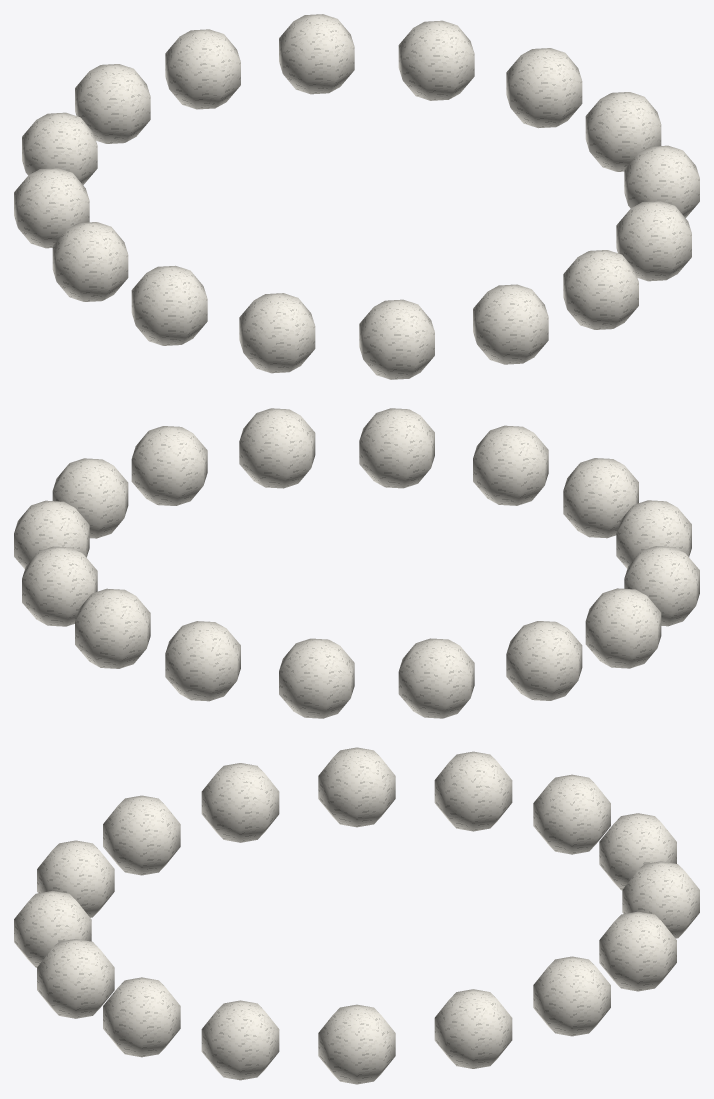
File: collar_de_perlas.glb
The picture shows the model from 3 angles, top to bottom: view 1: azimuth 30°, elevation 25°; view 2: azimuth 150°, elevation 25°; view 3: azimuth 270°, elevation 25°; orthographic projection.
Visible parts, largest first — view 1: _MeshInstance3D_212, _MeshInstance3D_220, _MeshInstance3D_218, _MeshInstance3D_211, _MeshInstance3D_219, _MeshInstance3D_207, _MeshInstance3D_213, _MeshInstance3D_221, _MeshInstance3D_206, _MeshInstance3D_214, _MeshInstance3D_208, _MeshInstance3D_215 (+4 smaller); view 2: _MeshInstance3D_218, _MeshInstance3D_208, _MeshInstance3D_216, _MeshInstance3D_209, _MeshInstance3D_217, _MeshInstance3D_207, _MeshInstance3D_213, _MeshInstance3D_215, _MeshInstance3D_206, _MeshInstance3D_214, _MeshInstance3D_212, _MeshInstance3D_221 (+4 smaller); view 3: _MeshInstance3D_209, _MeshInstance3D_217, _MeshInstance3D_211, _MeshInstance3D_219, _MeshInstance3D_207, _MeshInstance3D_208, _MeshInstance3D_216, _MeshInstance3D_212, _MeshInstance3D_220, _MeshInstance3D_210, _MeshInstance3D_213, _MeshInstance3D_218 (+4 smaller).
Boxes of the visible parts, left/top/right/bottom form: _MeshInstance3D_212: left=398, top=20, right=474, bottom=100; _MeshInstance3D_220: left=239, top=293, right=315, bottom=373; _MeshInstance3D_218: left=52, top=222, right=128, bottom=301; _MeshInstance3D_211: left=506, top=48, right=582, bottom=128; _MeshInstance3D_219: left=131, top=265, right=207, bottom=345; _MeshInstance3D_207: left=563, top=250, right=638, bottom=329; _MeshInstance3D_213: left=279, top=14, right=354, bottom=94; _MeshInstance3D_221: left=359, top=299, right=434, bottom=379; _MeshInstance3D_206: left=473, top=284, right=548, bottom=364; _MeshInstance3D_214: left=165, top=29, right=240, bottom=109; _MeshInstance3D_208: left=616, top=201, right=691, bottom=281; _MeshInstance3D_215: left=75, top=64, right=150, bottom=143; _MeshInstance3D_218: left=585, top=588, right=661, bottom=668; _MeshInstance3D_208: left=239, top=408, right=315, bottom=488; _MeshInstance3D_216: left=398, top=638, right=474, bottom=718; _MeshInstance3D_209: left=131, top=426, right=207, bottom=505; _MeshInstance3D_217: left=506, top=621, right=582, bottom=700; _MeshInstance3D_207: left=359, top=408, right=434, bottom=488; _MeshInstance3D_213: left=75, top=588, right=150, bottom=668; _MeshInstance3D_215: left=279, top=638, right=354, bottom=718; _MeshInstance3D_206: left=473, top=425, right=548, bottom=505; _MeshInstance3D_214: left=165, top=621, right=240, bottom=701; _MeshInstance3D_212: left=22, top=546, right=97, bottom=626; _MeshInstance3D_221: left=563, top=458, right=638, bottom=538; _MeshInstance3D_209: left=201, top=1000, right=279, bottom=1080; _MeshInstance3D_217: left=434, top=751, right=512, bottom=831; _MeshInstance3D_211: left=434, top=989, right=512, bottom=1068; _MeshInstance3D_219: left=201, top=763, right=279, bottom=842; _MeshInstance3D_207: left=37, top=939, right=114, bottom=1018; _MeshInstance3D_208: left=103, top=977, right=180, bottom=1057; _MeshInstance3D_216: left=533, top=774, right=610, bottom=854; _MeshInstance3D_212: left=533, top=956, right=610, bottom=1036; _MeshInstance3D_220: left=103, top=795, right=180, bottom=875; _MeshInstance3D_210: left=318, top=1004, right=395, bottom=1084; _MeshInstance3D_213: left=599, top=911, right=676, bottom=991; _MeshInstance3D_218: left=318, top=747, right=395, bottom=827.
Bounding box in the file's own units: 0.2525 × 0.042 × 0.2525.
1 material, 1 textured.
